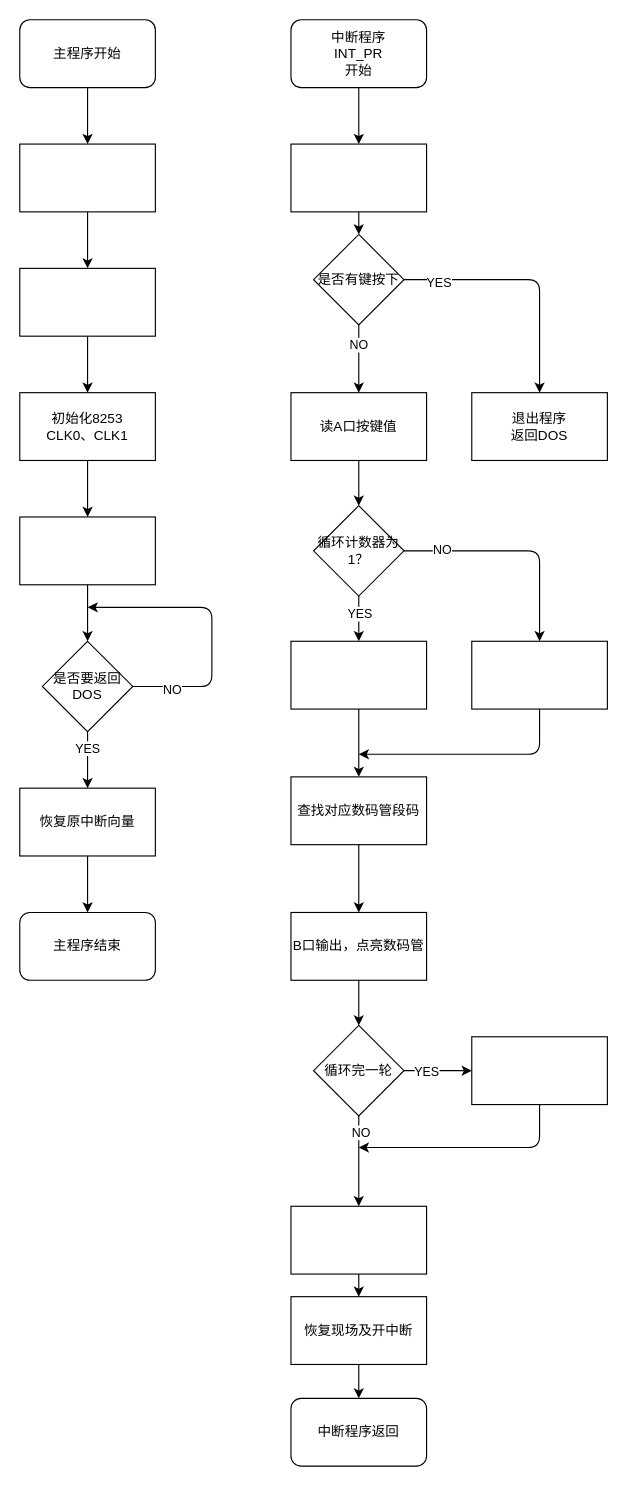
Image size: 627x1486. Some labels were removed from this diagram. Each missing label, with the centre of its shape:
"关中断及现场保护" goes at point (358, 177).
"初始化8255" goes at point (87, 301).
"发中断结束命令" goes at point (358, 1239).
"存储原中断向量 设置新中断向量" goes at point (87, 550).
"显示低四位" goes at point (358, 674).
"显示提示信息" goes at point (87, 177).
"显示高四位" goes at point (539, 674).
"重置计数器" goes at point (539, 1070).
